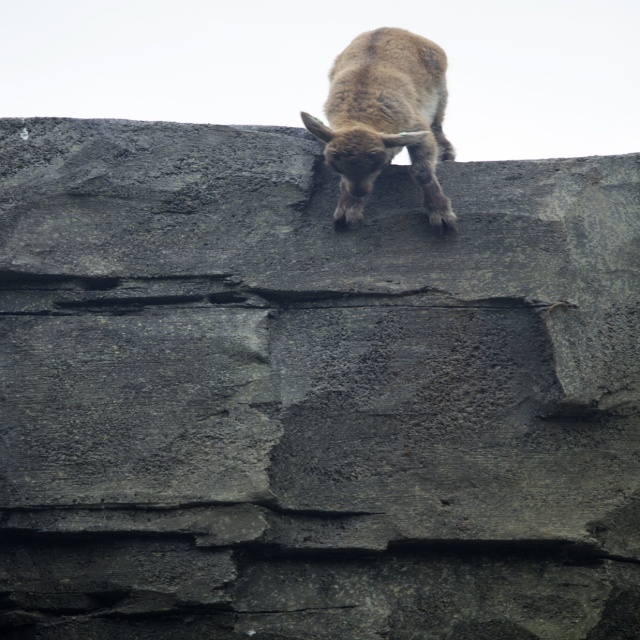Goat: (294, 34, 468, 250)
